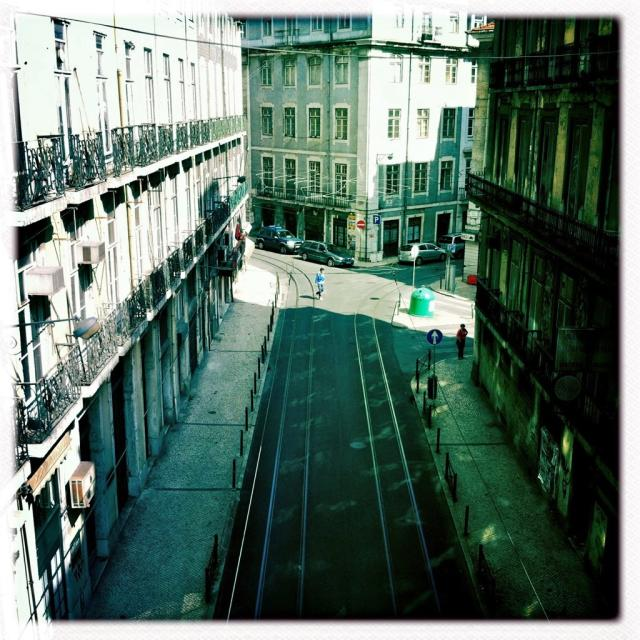car: (296, 240, 357, 267)
